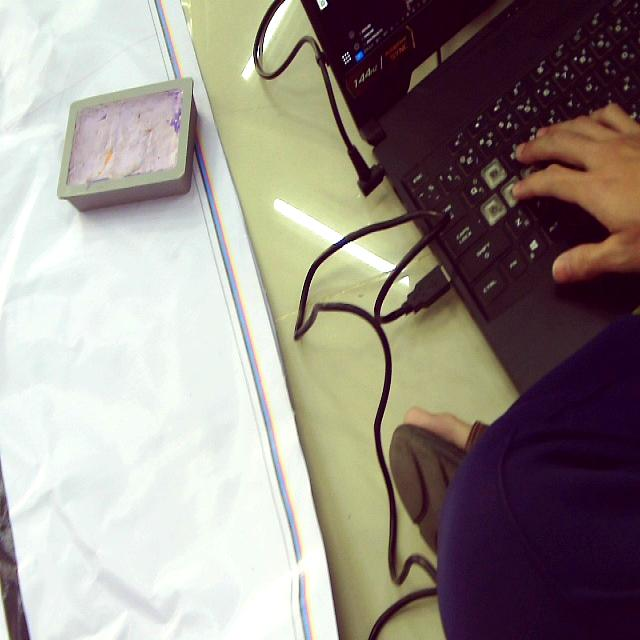block: (56, 78, 198, 210)
